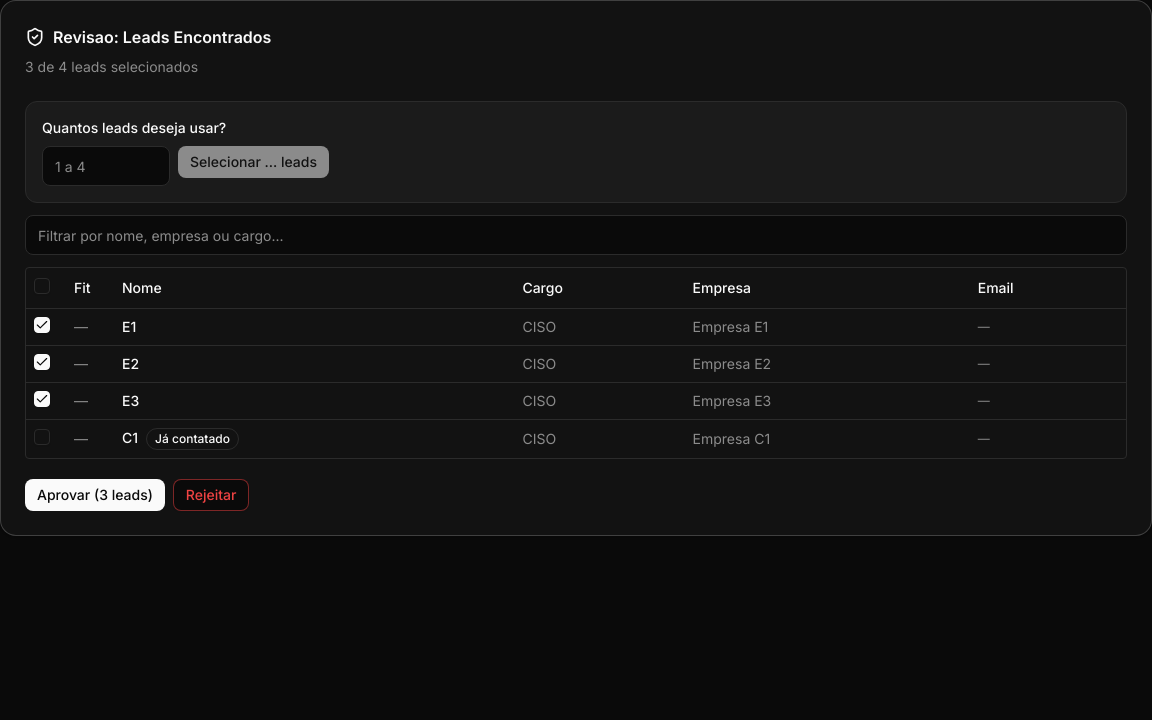
Test: AgentLeadReview — Story 24.15 triagem › Selecionar Q leads: seleciona os Q primeiros elegiveis (pula ja contatado)
Type "2" into the number field with test id "lead-quantity-input" at (106, 166), box top-left (42, 146), bottom-right (170, 186)
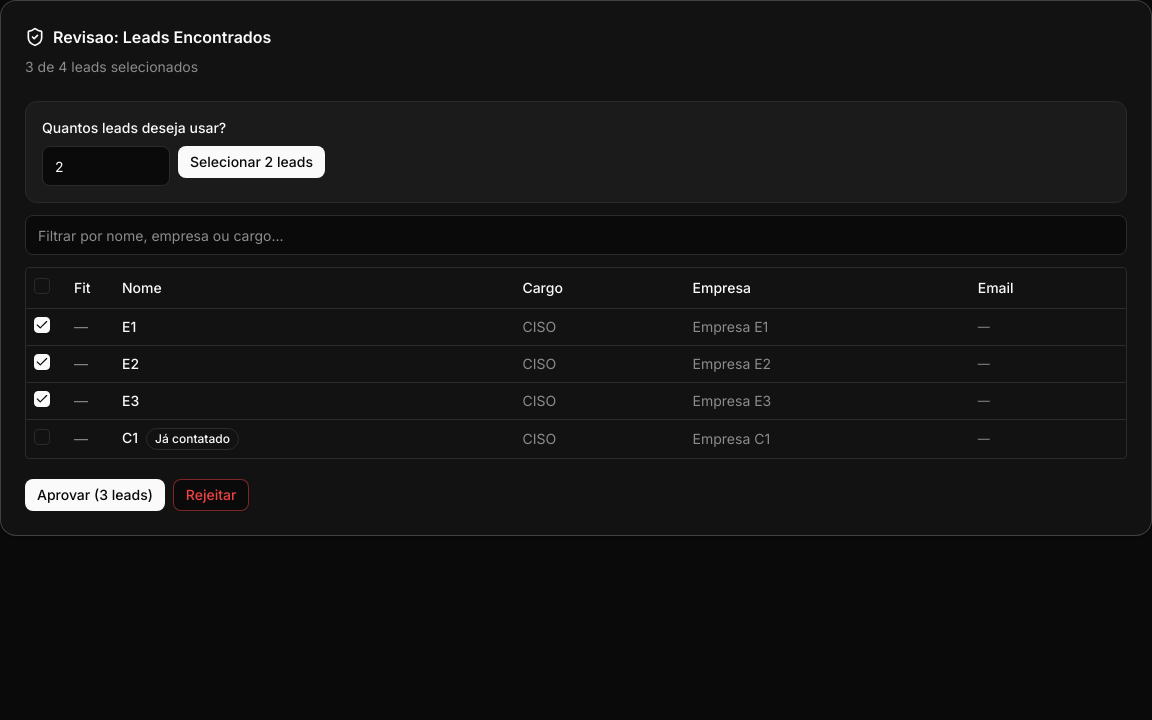
Click the button with test id "lead-quantity-action" at (252, 162), box top-left (178, 146), bottom-right (325, 178)
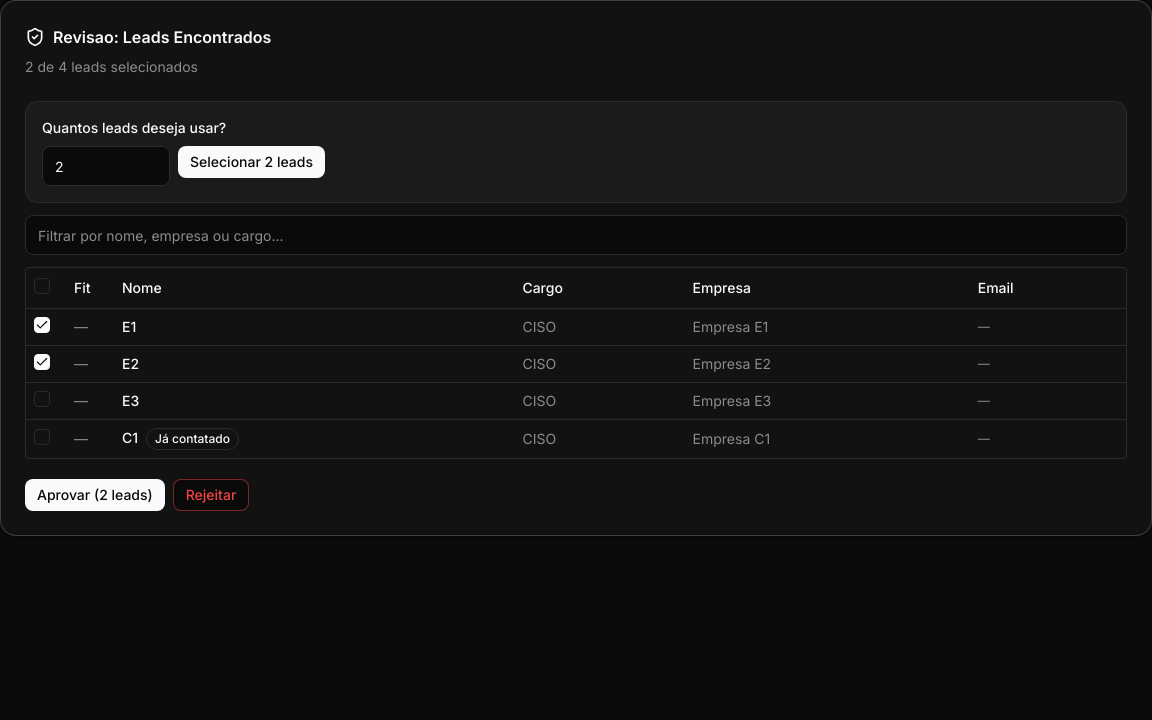
Expected: the checkbox named "Selecionar E1" is checked, top-left (34, 316), bottom-right (50, 332)
Expected: the checkbox named "Selecionar E3" is not checked, top-left (34, 390), bottom-right (50, 406)
